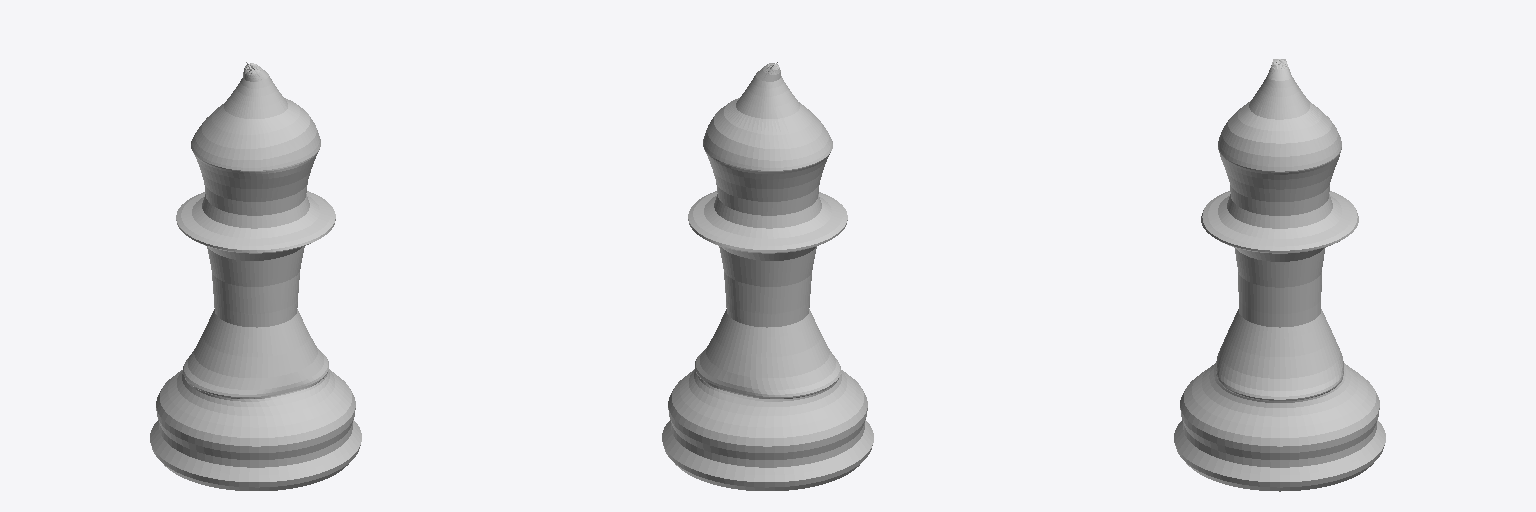
Rendered from CandyBishop.obj.
3 renders of one model, left to right at view 1: azimuth 30°, elevation 25°; view 2: azimuth 150°, elevation 25°; view 3: azimuth 270°, elevation 25°, orthographic.
Visible parts, largest first — view 1: Cylinder; view 2: Cylinder; view 3: Cylinder.
Boxes of the visible parts, box(x1,y1,x2,y2) form: Cylinder: box(150, 62, 361, 490); Cylinder: box(662, 62, 873, 490); Cylinder: box(1174, 59, 1385, 491).
Bounding box in the file's own units: 0.6496 × 1.31 × 0.6496.